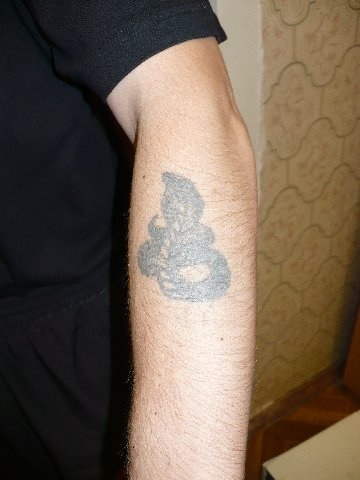tatu7_zmeya: (137, 158, 242, 300)
